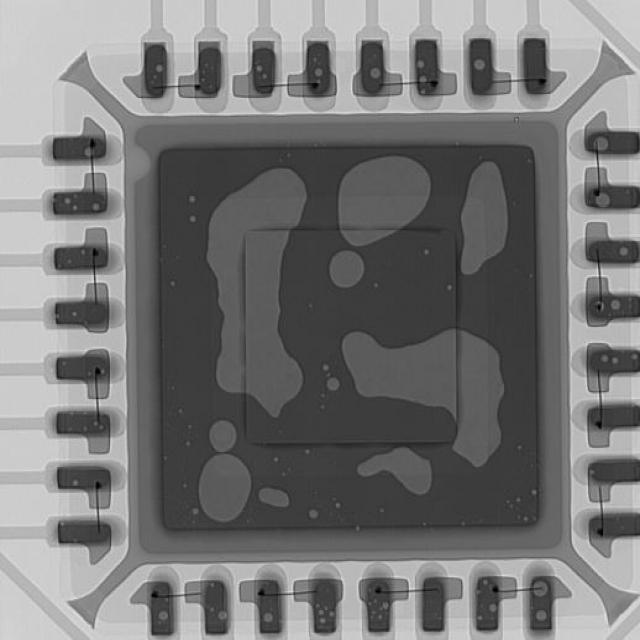component: (160, 144, 542, 527)
void: (206, 169, 308, 394), (245, 231, 303, 417), (345, 330, 456, 417), (339, 157, 432, 246), (453, 331, 505, 468), (462, 161, 509, 274), (199, 455, 252, 524), (358, 448, 432, 496), (330, 251, 366, 289), (209, 421, 237, 453), (259, 487, 290, 509), (327, 379, 340, 391), (309, 511, 319, 521), (189, 215, 196, 223), (322, 365, 330, 372), (335, 502, 342, 510), (189, 196, 196, 203), (192, 509, 198, 516), (447, 285, 453, 291), (169, 281, 175, 287), (373, 283, 379, 288)
